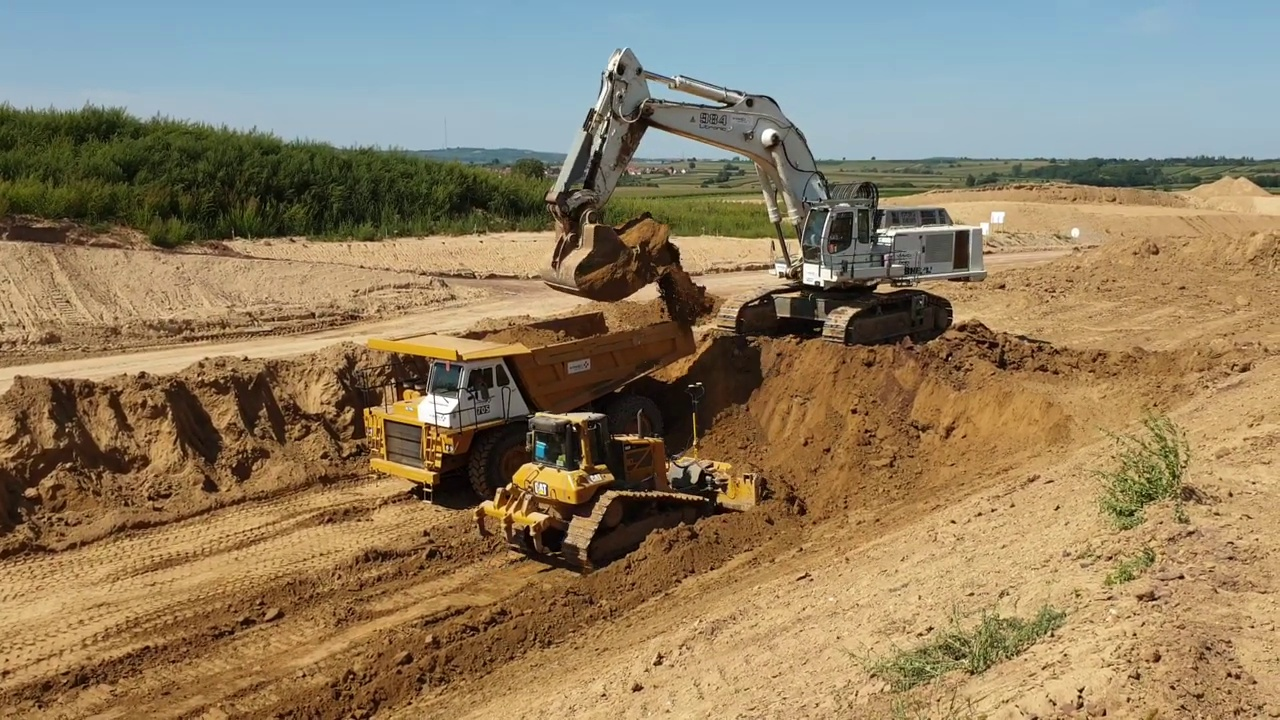bulldozer: (476, 376, 771, 579)
excavator: (536, 43, 992, 351)
truck: (354, 309, 702, 510)
